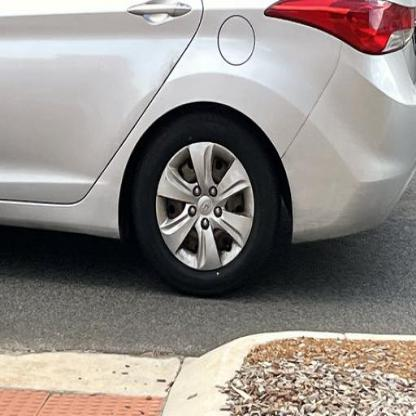Tire: (131, 112, 278, 299)
